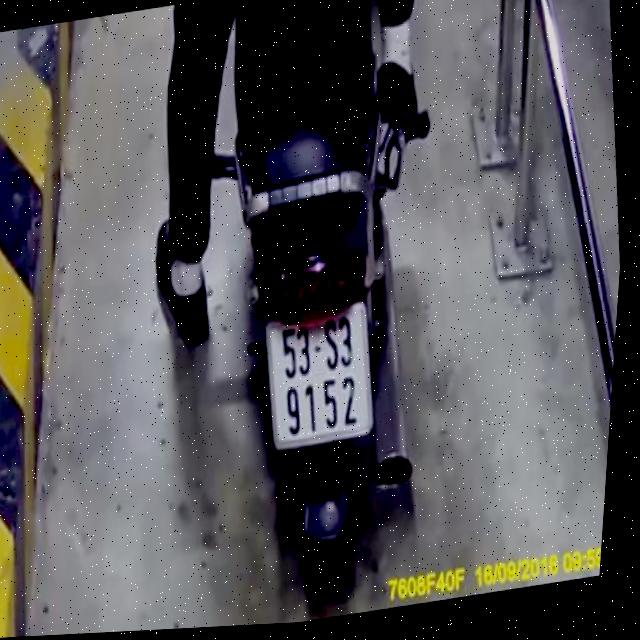motorcycle: (176, 0, 480, 629)
plate: (252, 302, 391, 456)
